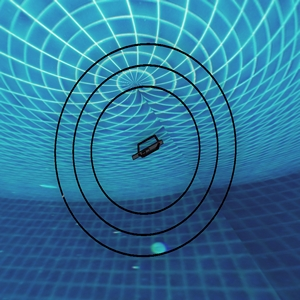circle: (46, 38, 244, 268)
